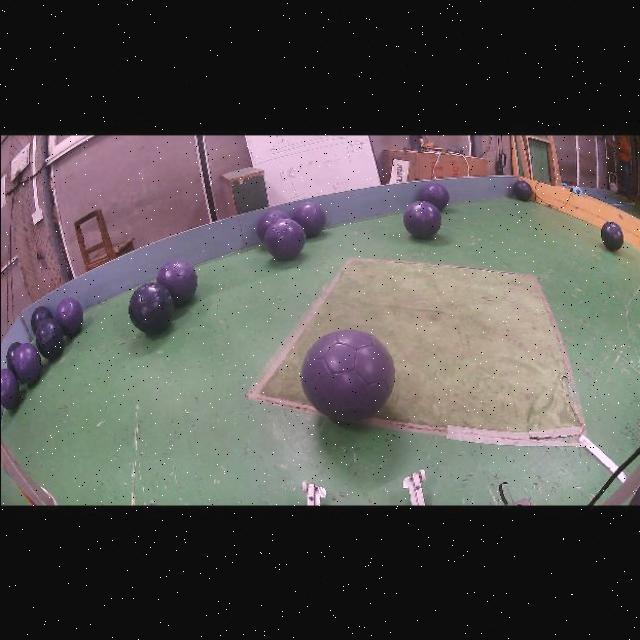B: (128, 280, 173, 332), (35, 317, 63, 358), (600, 220, 623, 249), (5, 341, 21, 377), (30, 305, 52, 331), (512, 179, 531, 199)
P: (300, 328, 394, 420), (155, 257, 196, 303), (263, 217, 305, 258), (403, 199, 440, 237), (291, 200, 326, 235), (53, 296, 83, 334), (13, 342, 41, 382), (256, 208, 288, 240), (420, 181, 448, 208), (0, 368, 18, 407)
